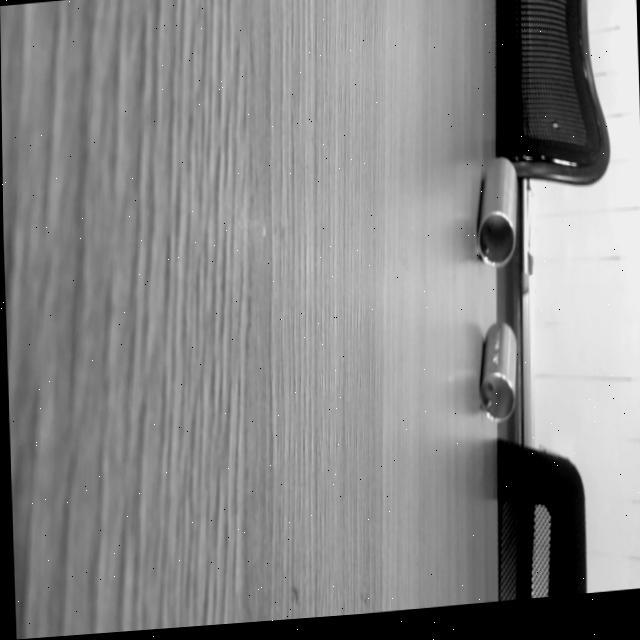Co_Lon: (475, 156, 516, 267)
Co_Nho: (476, 320, 519, 422)
